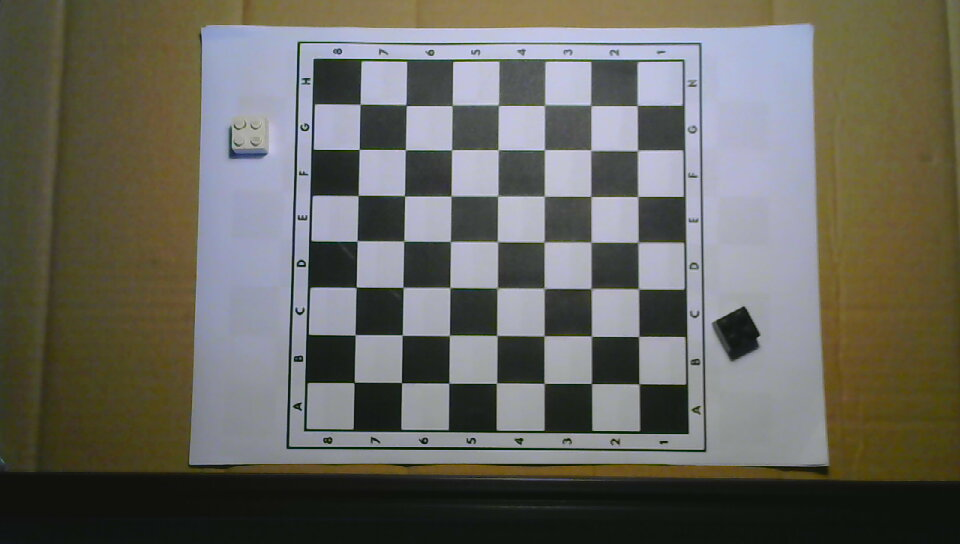bp: (712, 306, 761, 358)
wp: (229, 115, 271, 156)
